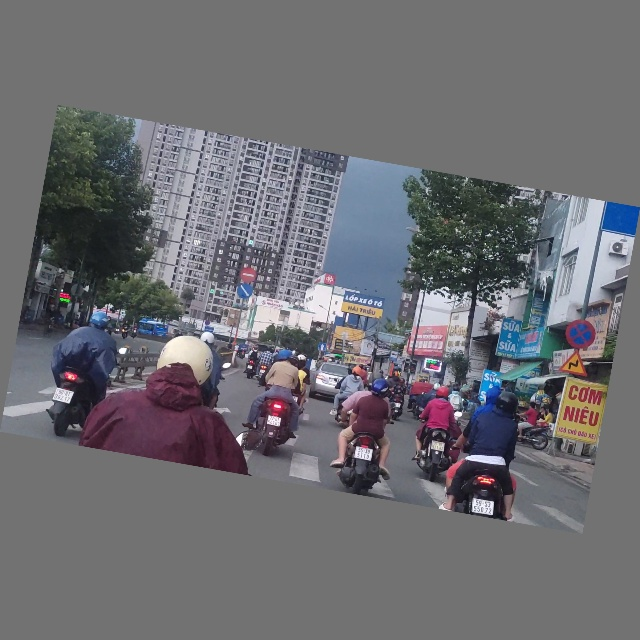I.407a: (318, 343, 328, 353)
I.434a: (389, 351, 399, 363)
P.102: (239, 267, 258, 285)
P.130: (563, 317, 599, 352)
R.302a: (236, 283, 255, 302)
W.202b: (557, 348, 592, 379)
